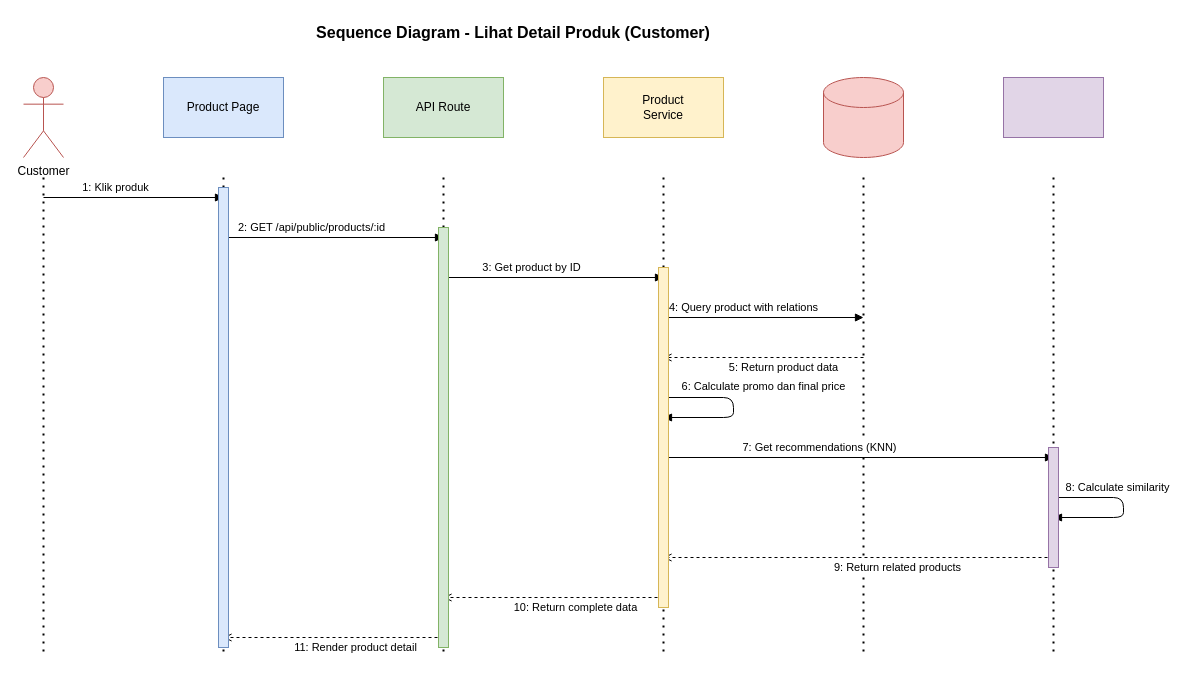
Image size: 1186x676. Some labels were removed from this diagram. The box of each missing label's shape, as (x1, y1, x2, y2) in pixels:
Database: (822, 76, 904, 158)
KNN Service: (1002, 76, 1104, 138)
